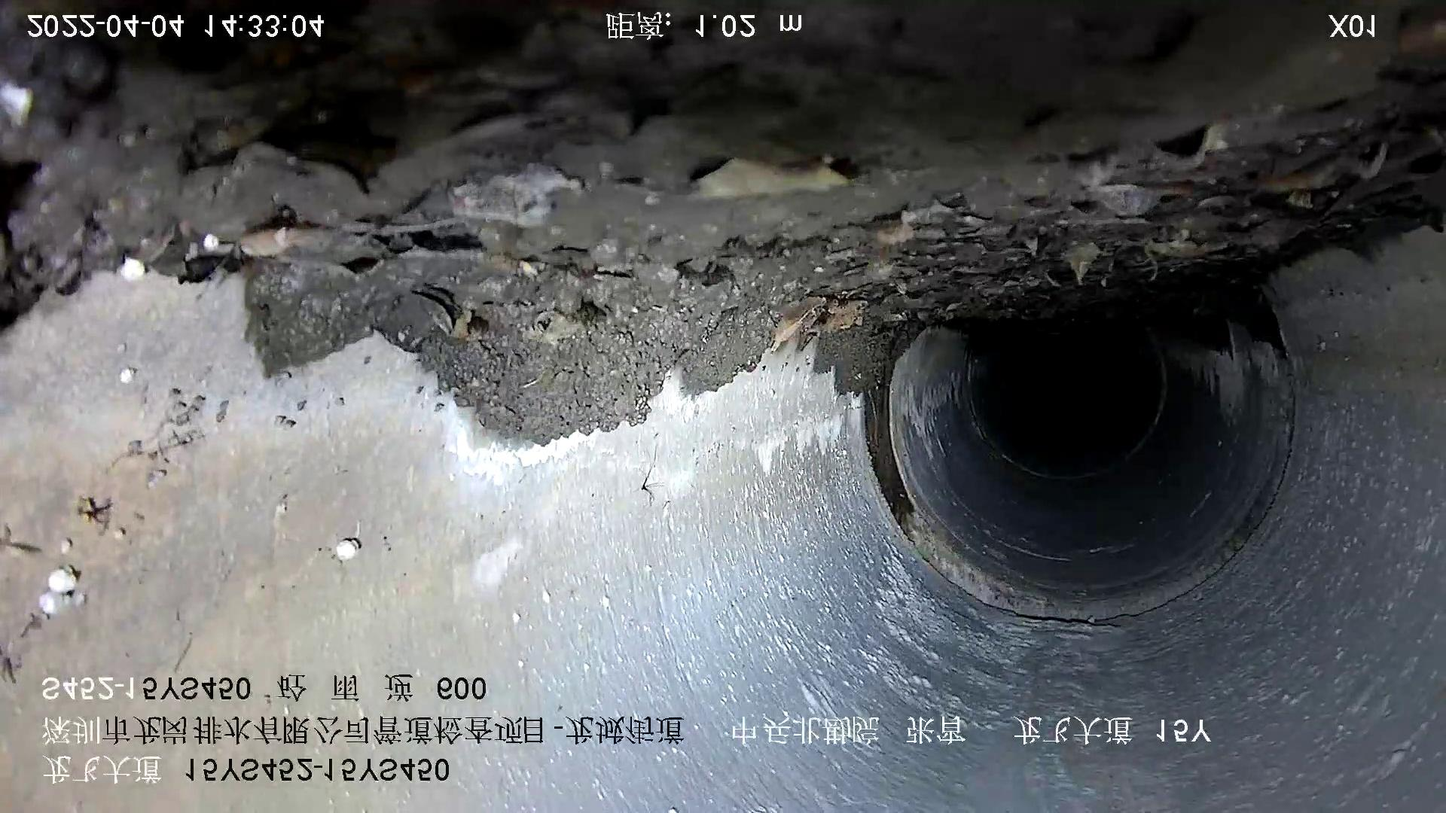CJ: (0, 1, 1445, 444)
CKTJ: (862, 282, 1306, 629)
